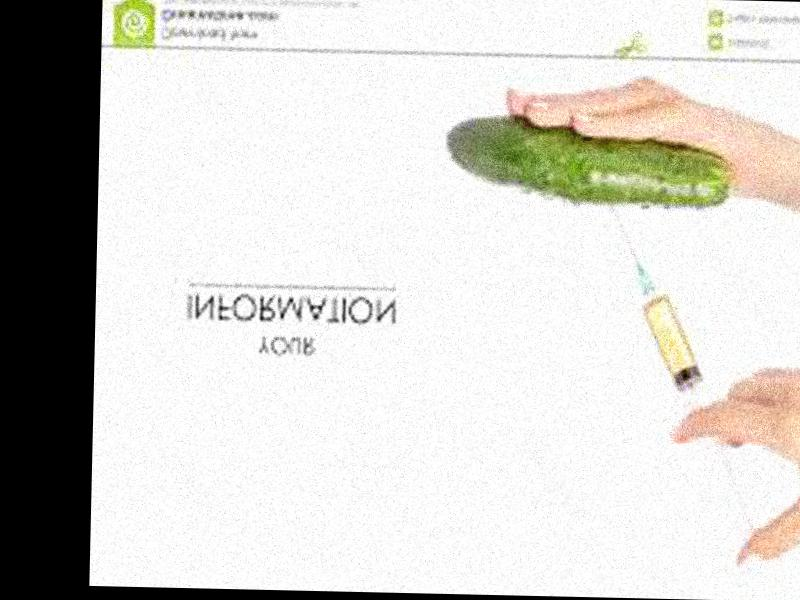Cucumber: (445, 116, 732, 207)
